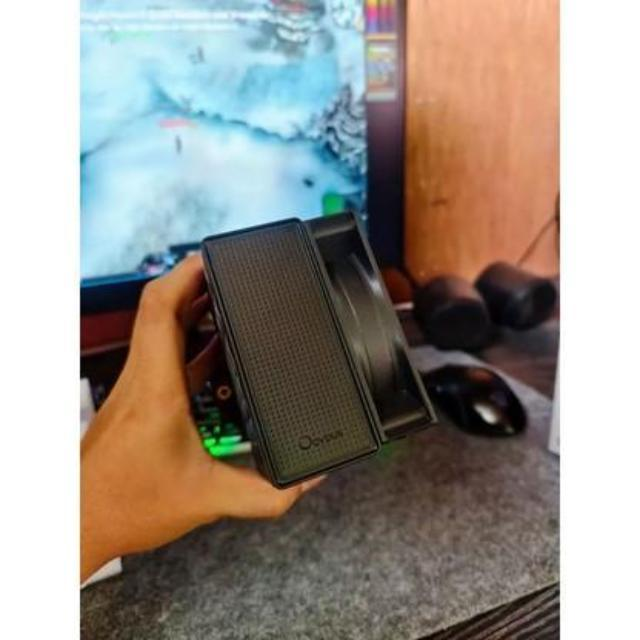CPU_Fan: (195, 205, 440, 487)
